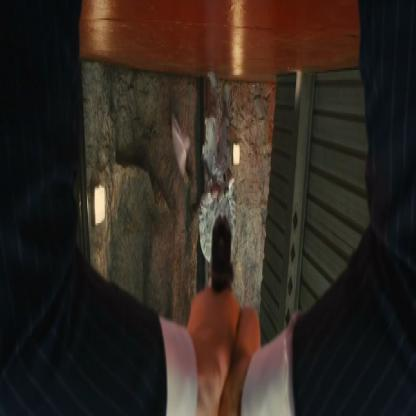Guns: (206, 209, 238, 310)
